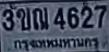2: (80, 5, 92, 27)
3: (2, 8, 14, 30)
4: (53, 7, 64, 29)
6: (67, 6, 78, 28)
7: (94, 4, 106, 27)
A02: (16, 7, 30, 30)
A19: (32, 6, 48, 29)
BKK: (12, 35, 100, 50)
